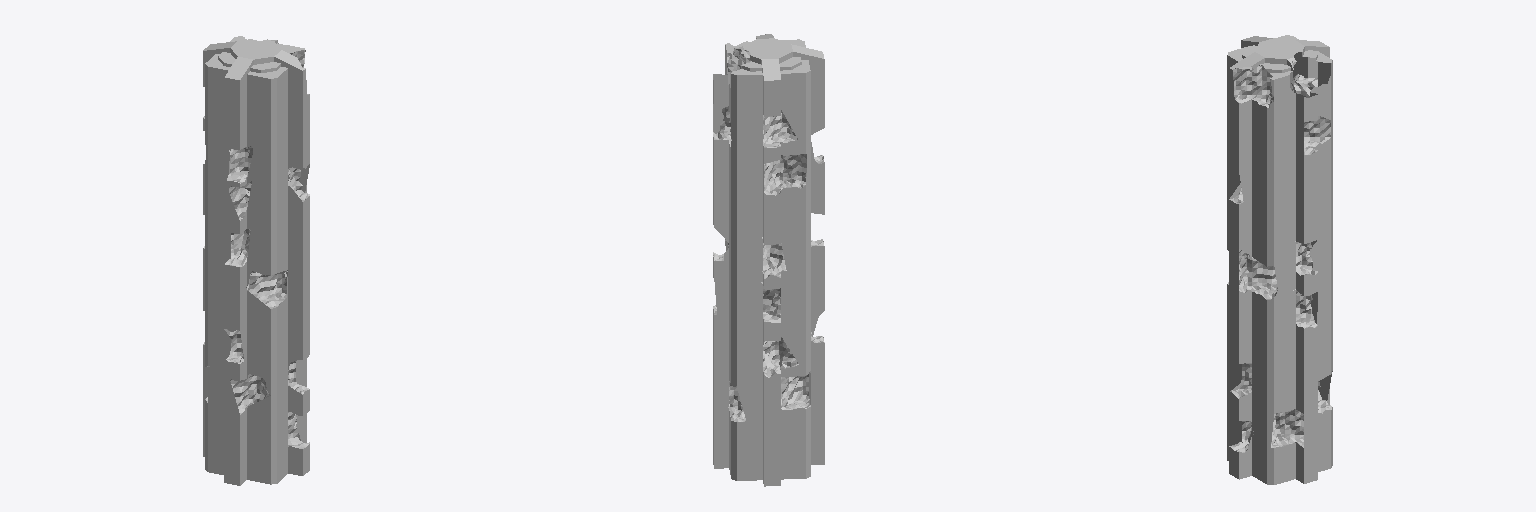
Rendered from Tallest skyscraper.obj.
3 renders of one model, left to right at view 1: azimuth 30°, elevation 25°; view 2: azimuth 150°, elevation 25°; view 3: azimuth 270°, elevation 25°, orthographic.
Visible parts, largest first — view 1: Tall_sckscraper_3d-model.001; view 2: Tall_sckscraper_3d-model.001; view 3: Tall_sckscraper_3d-model.001.
Part boxes in pixels (x1,y1,x2,y2): Tall_sckscraper_3d-model.001: (203, 36, 309, 485); Tall_sckscraper_3d-model.001: (713, 34, 824, 486); Tall_sckscraper_3d-model.001: (1227, 35, 1332, 484).
Size of the model in its own units: 0.9585 by 4.16 by 0.9585.